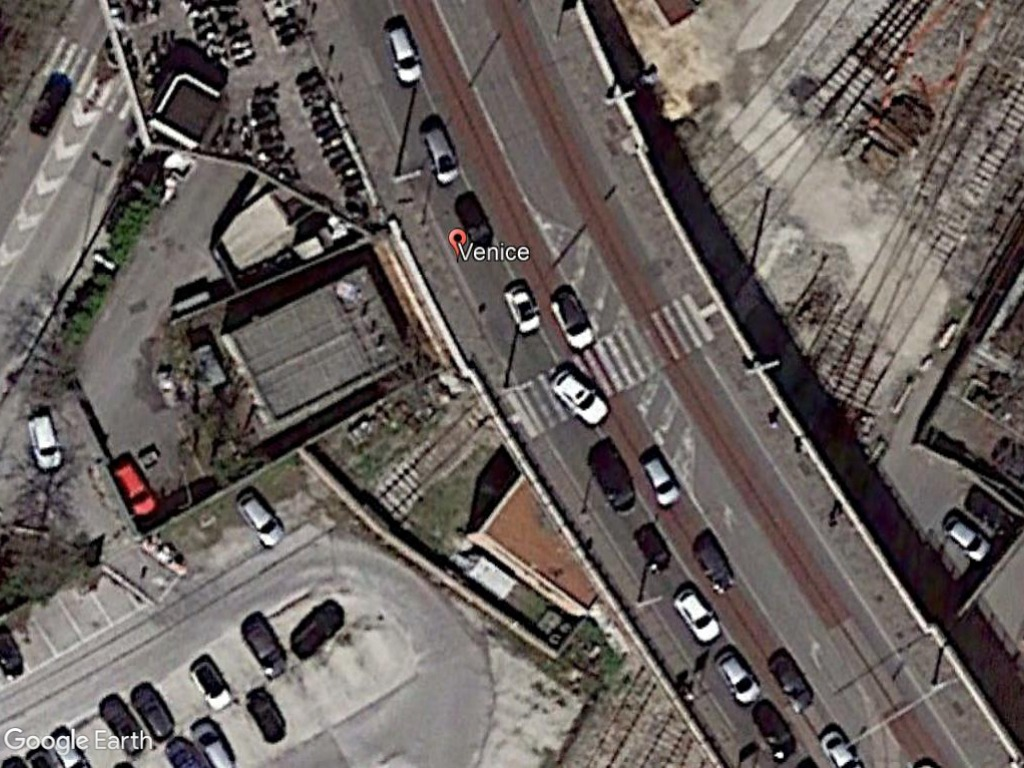car: (551, 363, 611, 428), (670, 581, 725, 647), (768, 645, 816, 716), (239, 617, 291, 681), (130, 678, 180, 743), (708, 649, 763, 707), (551, 289, 599, 355), (233, 490, 287, 548), (187, 655, 234, 715), (940, 512, 991, 565), (637, 454, 681, 510)
other: (503, 280, 544, 337)
van: (594, 448, 641, 517), (112, 462, 161, 522), (382, 24, 426, 87), (422, 123, 462, 188), (24, 412, 65, 474)
